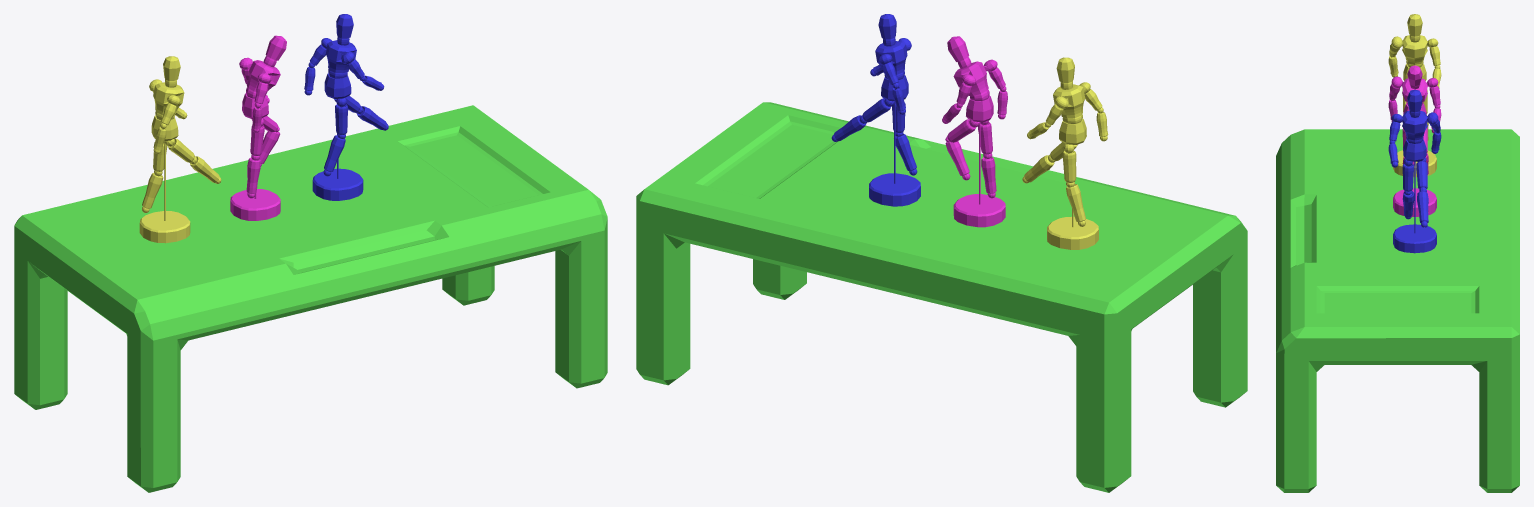
Rendered from AnimationStation.fbx.
The picture shows the model from 3 angles, left to right: view 1: azimuth 30°, elevation 25°; view 2: azimuth 150°, elevation 25°; view 3: azimuth 270°, elevation 25°; orthographic projection. The views are drawn at different scales.
Visible parts, largest first — view 1: Animation desk, RightModel, LeftModel, MiddleModel; view 2: Animation desk, MiddleModel, LeftModel, RightModel; view 3: Animation desk, RightModel, LeftModel, MiddleModel.
Boxes of the visible parts, left/top/right/bottom form: Animation desk: left=14, top=105, right=607, bottom=492; RightModel: left=304, top=14, right=388, bottom=200; LeftModel: left=139, top=56, right=221, bottom=243; MiddleModel: left=230, top=35, right=286, bottom=220; Animation desk: left=636, top=102, right=1247, bottom=492; MiddleModel: left=942, top=36, right=1007, bottom=227; LeftModel: left=1022, top=57, right=1108, bottom=249; RightModel: left=831, top=14, right=920, bottom=206; Animation desk: left=1276, top=129, right=1519, bottom=492; RightModel: left=1388, top=89, right=1441, bottom=253; LeftModel: left=1388, top=14, right=1441, bottom=177; MiddleModel: left=1388, top=65, right=1441, bottom=216.
Bounding box in the file's own units: 596 × 438 × 300.
